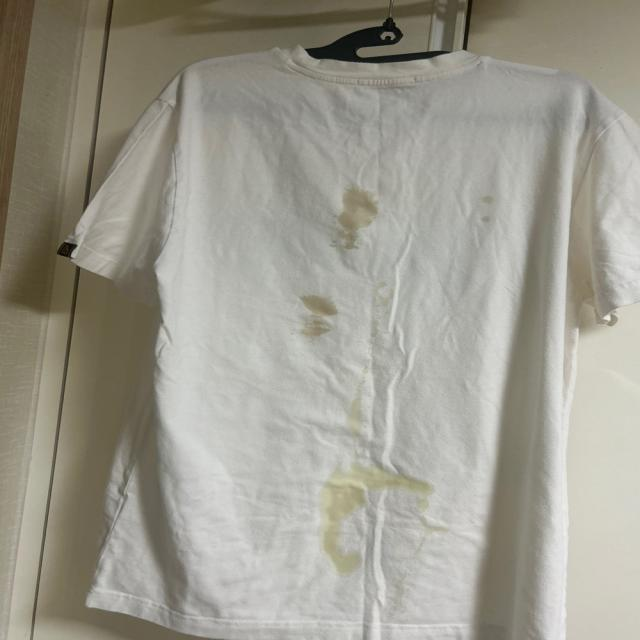stain: (320, 461, 433, 570), (329, 180, 376, 248), (293, 290, 338, 340), (338, 366, 372, 430), (476, 185, 504, 228), (369, 278, 399, 312)
